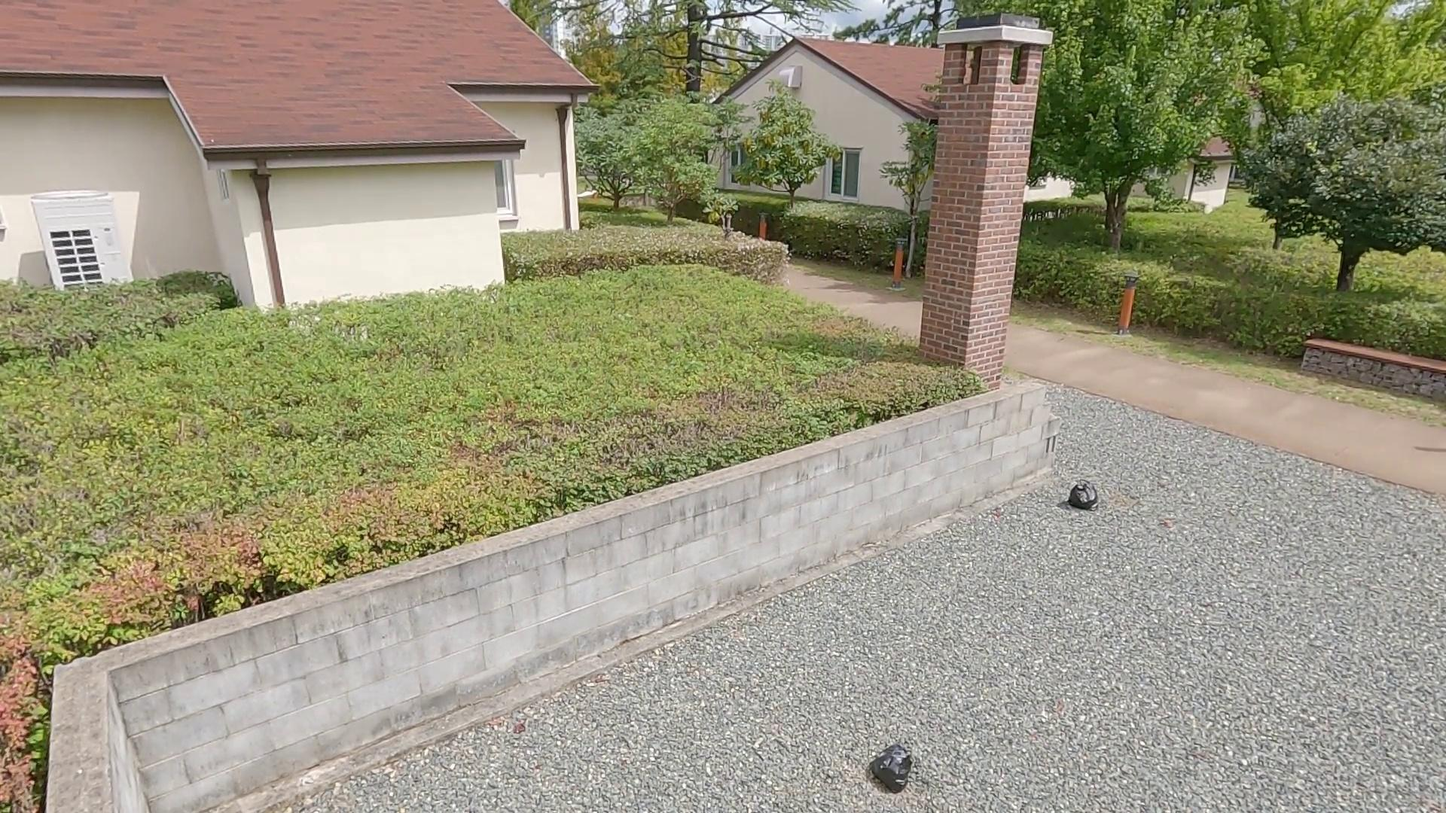trash: (863, 733, 917, 794), (1068, 473, 1097, 513)
